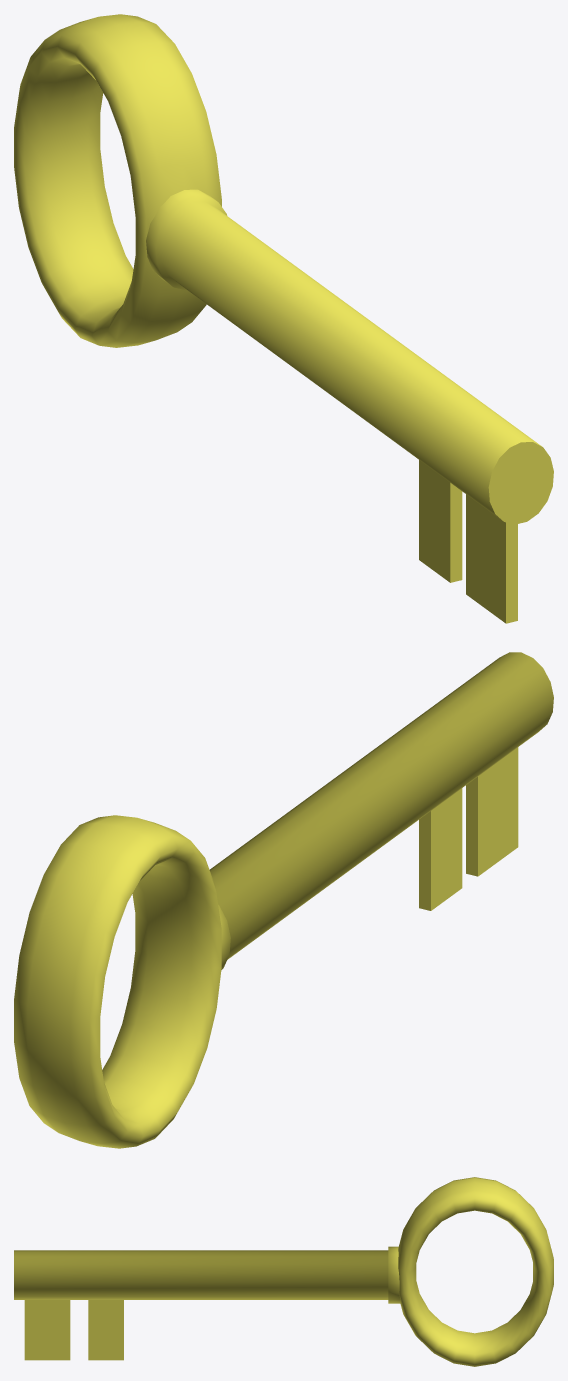
File: key.fbx
3 renders of one model, top to bottom at view 1: azimuth 30°, elevation 25°; view 2: azimuth 150°, elevation 25°; view 3: azimuth 270°, elevation 25°, orthographic. The views are drawn at different scales.
Visible parts, largest first — view 1: key; view 2: key; view 3: key.
Part boxes in pixels (x1,y1,x2,y2): key: (14,14,553,623); key: (14,652,553,1148); key: (14,1177,553,1366).
Size of the model in its own units: 9.89 by 34.86 by 95.62.
